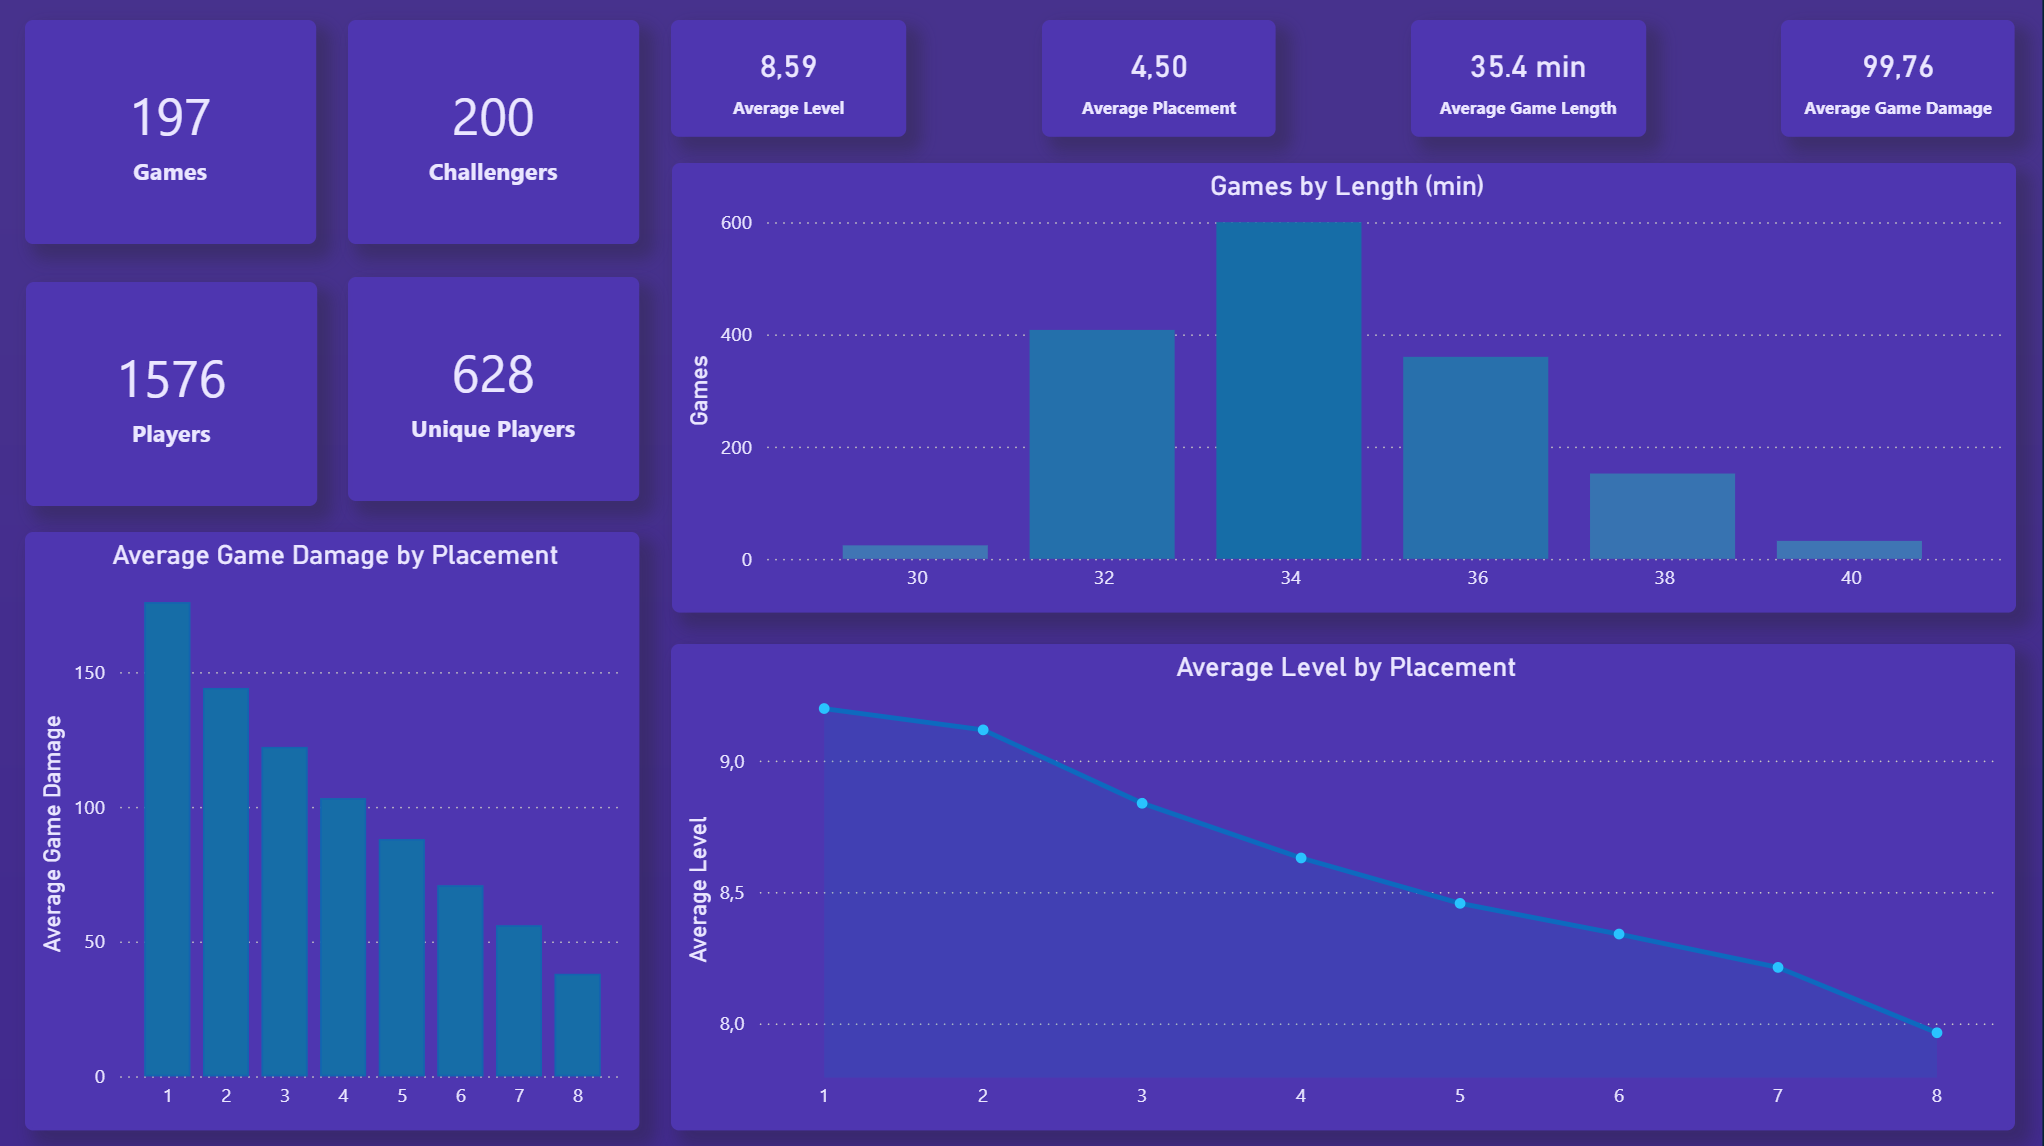

Layout of this report page (visuals, bound fields, positions):
{"tool":"powerbi","page":{"name":"Page 1","canvas":[1280,720],"ordinal":0},"visuals":[{"type":"card","fields":{"Values":["tft_project tft_match_participants_euw.Games"]},"box":[18,12.9,181.5,139.7],"z":0},{"type":"card","fields":{"Values":["tft_project tft_challenger_euw.Players"]},"box":[220.3,173.5,181.5,139.7],"z":1000},{"type":"card","fields":{"Values":["tft_project tft_challenger_euw.Players"]},"box":[18.5,176.6,181.5,139.7],"z":2000},{"type":"card","fields":{"Values":["Mesures.AVERAGE Placement"]},"box":[653.7,12.9,146.5,73.2],"z":3000},{"type":"card","fields":{"Values":["Mesures.Average Game Damage"]},"box":[1115.7,12.9,146.5,73.2],"z":4000},{"type":"card","fields":{"Values":["Mesures.Average Game Length"]},"box":[884.6,13.1,146.6,73.3],"z":5000},{"type":"card","fields":{"Values":["Mesures.Average Level"]},"box":[422.2,12.9,147.1,73.2],"z":6000},{"type":"clusteredColumnChart","title":"Average Game Damage by Placement","fields":{"Y":["Mesures.Average Game Damage"],"Category":["tft_project tft_match_participants_euw.placement"]},"box":[17.8,332.9,384,374.2],"z":7000},{"type":"areaChart","title":"Average Level by Placement","fields":{"Category":["tft_project tft_match_participants_euw.placement"],"Y":["Mesures.Average Level"]},"box":[422.2,403.1,840,304],"z":8000},{"type":"card","fields":{"Values":["Mesures.challangers"]},"box":[220.3,12.9,181.5,139.7],"z":9000},{"type":"clusteredColumnChart","title":"Games by Length (min)","fields":{"Category":["tft_project tft_match_participants_euw.Game Length (min) (bins)"],"Y":["CountNonNull(tft_project tft_match_participants_euw.match_id)"]},"box":[422.4,102.6,839.7,281.4],"z":10000}]}

Visuals, with their boxes in screenshot pixels (x1, y1, x2, y2), scaled from the page's 1280x720 canvas onto the 2044x1146 screenshot:
card - tft_project tft_match_participants_euw.Games: {"left": 29, "top": 21, "right": 319, "bottom": 243}
card - tft_project tft_challenger_euw.Players: {"left": 352, "top": 276, "right": 642, "bottom": 499}
card - tft_project tft_challenger_euw.Players: {"left": 30, "top": 281, "right": 319, "bottom": 503}
card - Mesures.AVERAGE Placement: {"left": 1044, "top": 21, "right": 1278, "bottom": 137}
card - Mesures.Average Game Damage: {"left": 1782, "top": 21, "right": 2016, "bottom": 137}
card - Mesures.Average Game Length: {"left": 1413, "top": 21, "right": 1647, "bottom": 138}
card - Mesures.Average Level: {"left": 674, "top": 21, "right": 909, "bottom": 137}
"Average Game Damage by Placement" clusteredColumnChart: {"left": 28, "top": 530, "right": 642, "bottom": 1125}
"Average Level by Placement" areaChart: {"left": 674, "top": 642, "right": 2016, "bottom": 1125}
card - Mesures.challangers: {"left": 352, "top": 21, "right": 642, "bottom": 243}
"Games by Length (min)" clusteredColumnChart: {"left": 675, "top": 163, "right": 2015, "bottom": 611}
